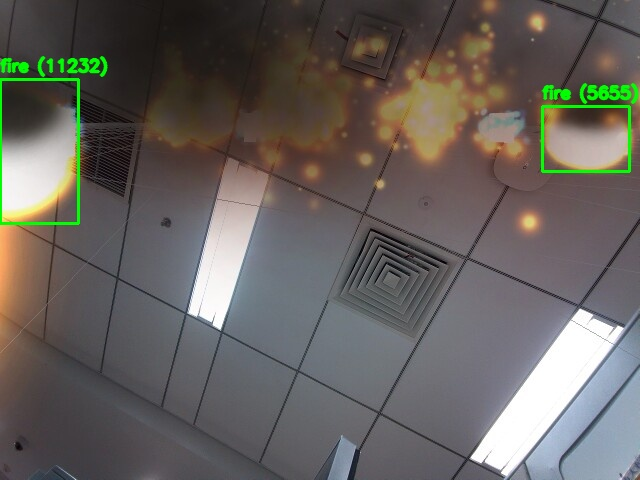fire: (0, 79, 78, 223), (542, 106, 629, 171)
